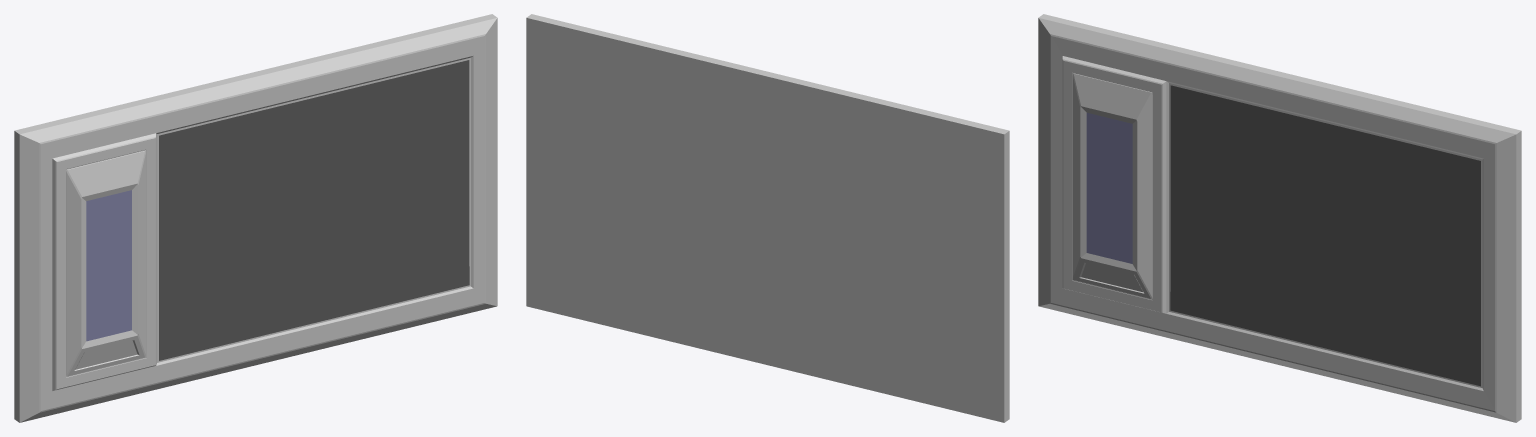
The model's file is terminal_default.fbx.
The picture shows the model from 3 angles, left to right: view 1: azimuth 30°, elevation 25°; view 2: azimuth 150°, elevation 25°; view 3: azimuth 330°, elevation 25°; orthographic projection.
Visible parts, largest first — view 1: terminal, screen, option; view 2: terminal; view 3: terminal, screen, option.
Part boxes in pixels (left/top/right/bottom): terminal: left=14, top=14, right=497, bottom=422; screen: left=159, top=60, right=469, bottom=341; option: left=159, top=266, right=469, bottom=360; terminal: left=526, top=14, right=1009, bottom=422; terminal: left=1038, top=14, right=1521, bottom=422; screen: left=1170, top=85, right=1480, bottom=385; option: left=1170, top=291, right=1480, bottom=386.
Bounding box in the file's own units: 2.51 × 0.1376 × 1.45.
